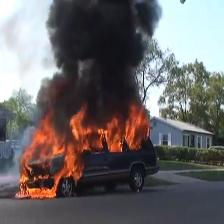fire: (24, 153, 80, 196), (26, 131, 144, 151)
smoke: (60, 3, 146, 107)
